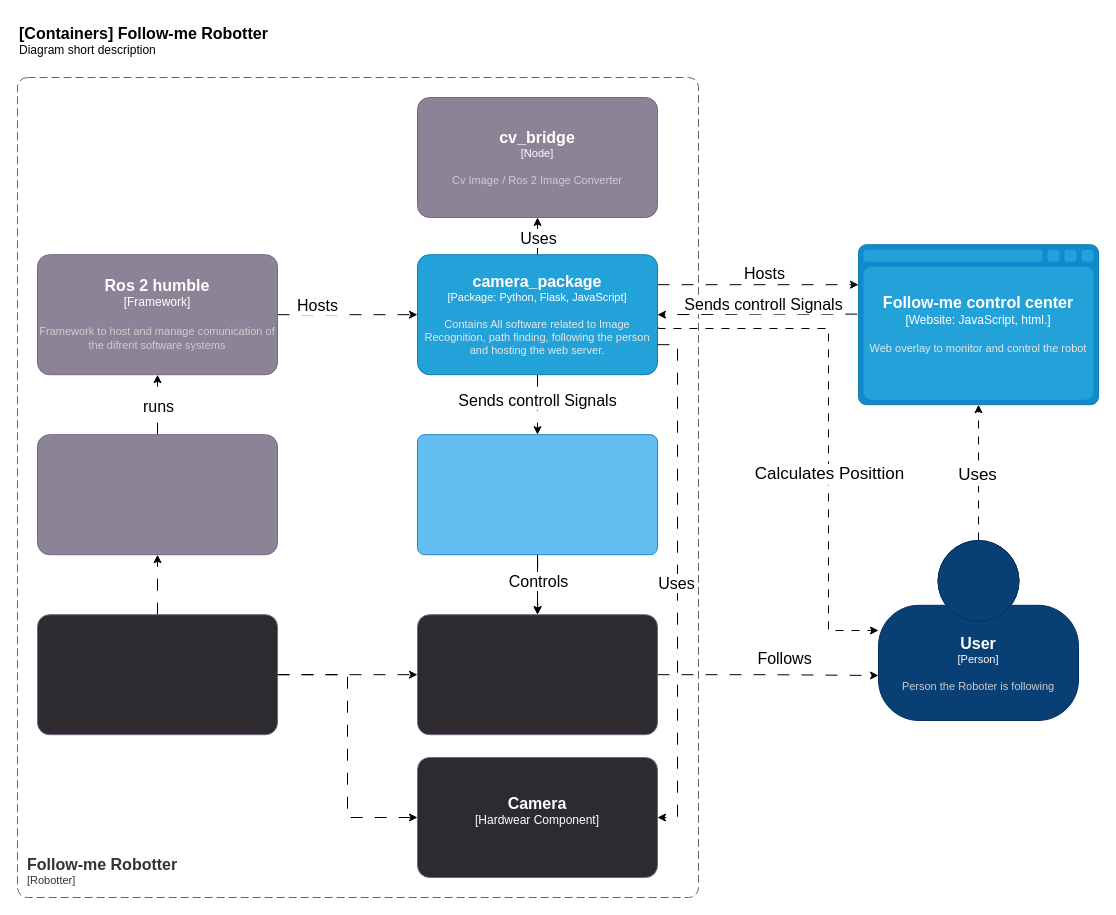
Some shapes in this 1116 by 915 pixel diagram are drawn without their labels. The centre of each missing label's shape, as x and y in pixels:
"Arduino [Hardwear Component]" belongs at [537,674].
"Arduino_Skript [Skript: Arduino C] Skript running on the arduino" belongs at [537,494].
"Jetson Nano [Hardware component]" belongs at [157,674].
"Ubuntu Server 22.04.03 LTS (64 bit) [Operating System] Underlying Linux distro" belongs at [157,494].
